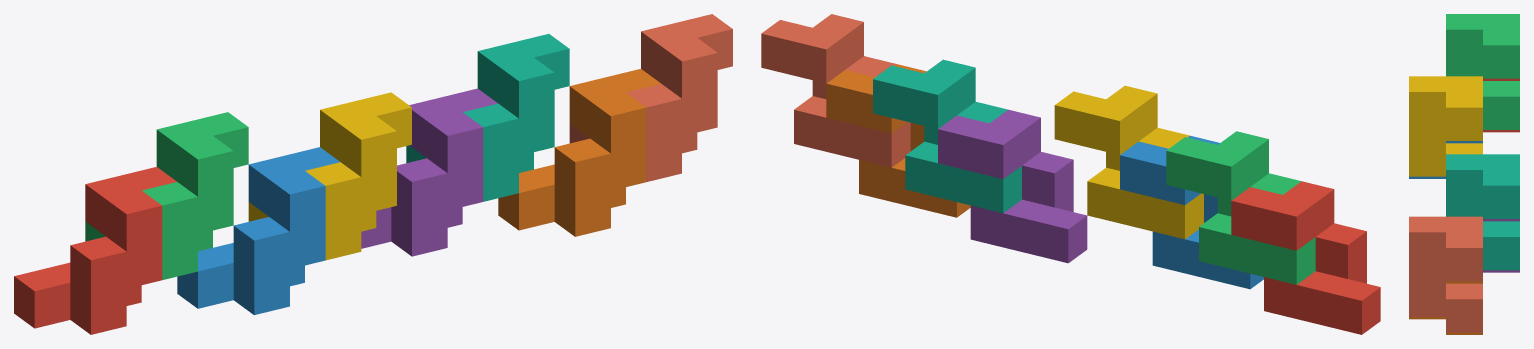
File: tiling.obj
3 renders of one model, left to right at view 1: azimuth 30°, elevation 25°; view 2: azimuth 150°, elevation 25°; view 3: azimuth 270°, elevation 25°, orthographic. The views are drawn at different scales.
Parts seen in each view (by area): view 1: copy_1_domain_1, copy_1_domain_6, copy_1_domain_2, copy_1_domain_5, copy_1_domain_4, copy_1_domain_3, copy_1_domain_7, copy_1_domain_8; view 2: copy_1_domain_5, copy_1_domain_1, copy_1_domain_3, copy_1_domain_7, copy_1_domain_4, copy_1_domain_8, copy_1_domain_6, copy_1_domain_2; view 3: copy_1_domain_8, copy_1_domain_4, copy_1_domain_7, copy_1_domain_3, copy_1_domain_6, copy_1_domain_1, copy_1_domain_2, copy_1_domain_5.
Boxes of the visible parts, x1,y1,x2,y2 form: copy_1_domain_1: (14, 167, 176, 334); copy_1_domain_6: (498, 69, 660, 236); copy_1_domain_2: (177, 147, 339, 315); copy_1_domain_5: (361, 88, 497, 256); copy_1_domain_4: (248, 92, 411, 260); copy_1_domain_3: (85, 112, 248, 279); copy_1_domain_7: (406, 34, 569, 201); copy_1_domain_8: (569, 14, 732, 181); copy_1_domain_5: (938, 109, 1087, 263); copy_1_domain_1: (1231, 181, 1380, 334); copy_1_domain_3: (1166, 131, 1315, 284); copy_1_domain_7: (873, 59, 1021, 213); copy_1_domain_4: (1054, 85, 1203, 239); copy_1_domain_8: (761, 14, 910, 167); copy_1_domain_6: (826, 64, 970, 217); copy_1_domain_2: (1120, 135, 1263, 289); copy_1_domain_8: (1409, 216, 1482, 332); copy_1_domain_4: (1409, 76, 1482, 176); copy_1_domain_7: (1446, 154, 1519, 270); copy_1_domain_3: (1446, 14, 1519, 129); copy_1_domain_6: (1409, 281, 1482, 334); copy_1_domain_1: (1483, 78, 1519, 132); copy_1_domain_2: (1409, 141, 1482, 178); copy_1_domain_5: (1483, 219, 1519, 272).
Bounding box in the file's own units: 19 × 4 × 3.
